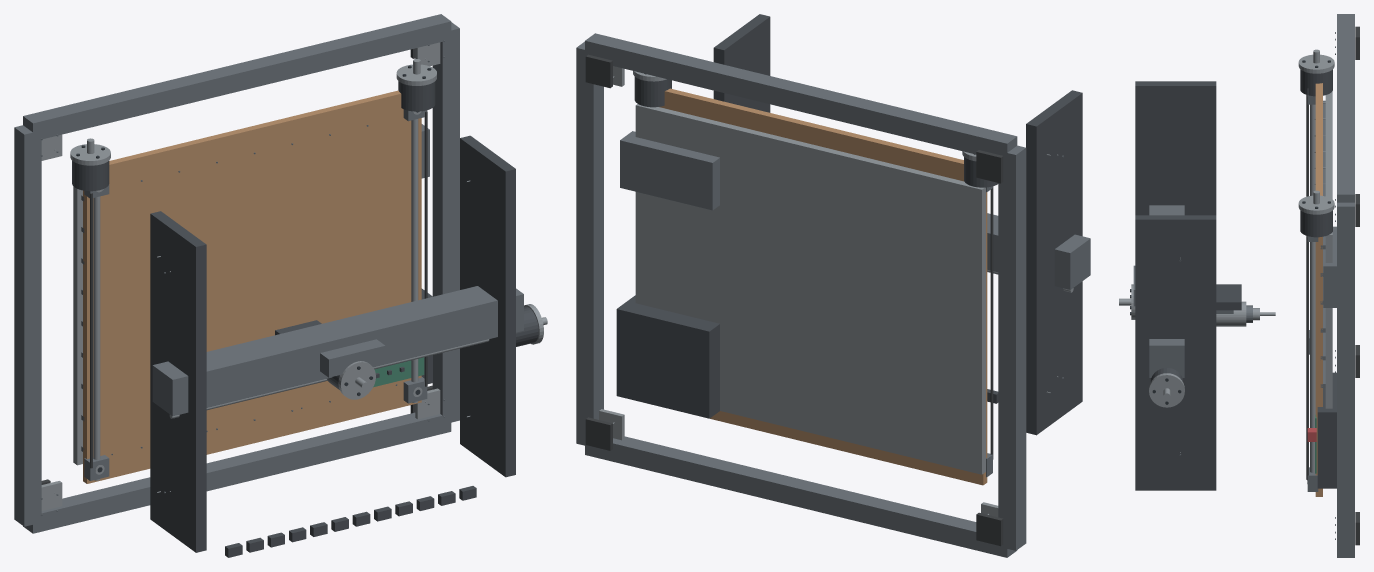
Rendered from cnc-4040.glb.
3 views of the same model, side by side, from view 1: azimuth 30°, elevation 25°; view 2: azimuth 150°, elevation 25°; view 3: azimuth 270°, elevation 25° (orthographic). The views are drawn at different scales.
Visible parts, largest first — view 1: 0282_MDF_worktop, 0165_X_axis_gantry_extrusion, 0151_Gantry_side_plate, 0158_Gantry_side_plate, 0005_Base_longitudinal_T-slot_extrusion, 0009_Base_cross_T-slot_extrusion, 0001_Base_longitudinal_T-slot_extrusion, 0013_Base_cross_T-slot_extrusion, 0073_Bed_support_plate, 0137_Y_linear_guide_rail, 0144_Y_linear_guide_rail, 0172_X_carriage_plate (+9 smaller); view 2: 0073_Bed_support_plate, 0151_Gantry_side_plate, 0005_Base_longitudinal_T-slot_extrusion, 0009_Base_cross_T-slot_extrusion, 0001_Base_longitudinal_T-slot_extrusion, 0230_Controller_enclosure, 0282_MDF_worktop, 0013_Base_cross_T-slot_extrusion, 0247_Power_supply_enclosure, 0158_Gantry_side_plate, 0165_X_axis_gantry_extrusion, 0216_Y_timing_belt (+5 smaller); view 3: 0158_Gantry_side_plate, 0151_Gantry_side_plate, 0013_Base_cross_T-slot_extrusion, 0005_Base_longitudinal_T-slot_extrusion, 0282_MDF_worktop, 0073_Bed_support_plate, 0230_Controller_enclosure, 0165_X_axis_gantry_extrusion, 0144_Y_linear_guide_rail, 0189_X_stepper_motor_front_flange, 0247_Power_supply_enclosure, 0202_Y_stepper_motor_motor_body (+8 smaller).
Part boxes in pixels (x1,y1,x2,y2): 0282_MDF_worktop: (83, 90, 421, 483); 0165_X_axis_gantry_extrusion: (152, 286, 523, 416); 0151_Gantry_side_plate: (150, 211, 206, 552); 0158_Gantry_side_plate: (460, 135, 515, 477); 0005_Base_longitudinal_T-slot_extrusion: (23, 14, 451, 141); 0009_Base_cross_T-slot_extrusion: (14, 125, 41, 526); 0001_Base_longitudinal_T-slot_extrusion: (23, 412, 451, 533); 0013_Base_cross_T-slot_extrusion: (432, 22, 459, 422); 0073_Bed_support_plate: (73, 186, 82, 465); 0137_Y_linear_guide_rail: (93, 196, 100, 480); 0144_Y_linear_guide_rail: (411, 119, 418, 403); 0172_X_carriage_plate: (320, 339, 385, 377); 0073_Bed_support_plate: (635, 104, 985, 474); 0151_Gantry_side_plate: (1026, 90, 1082, 435); 0005_Base_longitudinal_T-slot_extrusion: (585, 33, 1017, 161); 0009_Base_cross_T-slot_extrusion: (998, 145, 1026, 550); 0001_Base_longitudinal_T-slot_extrusion: (585, 436, 1017, 557); 0230_Controller_enclosure: (616, 295, 719, 418); 0282_MDF_worktop: (659, 88, 987, 485); 0013_Base_cross_T-slot_extrusion: (576, 41, 603, 447); 0247_Power_supply_enclosure: (620, 131, 719, 210); 0158_Gantry_side_plate: (713, 14, 770, 112); 0165_X_axis_gantry_extrusion: (987, 213, 1090, 289); 0216_Y_timing_belt: (990, 186, 993, 459); 0158_Gantry_side_plate: (1135, 215, 1216, 490); 0151_Gantry_side_plate: (1135, 81, 1216, 215); 0013_Base_cross_T-slot_extrusion: (1337, 202, 1354, 553); 0005_Base_longitudinal_T-slot_extrusion: (1337, 14, 1354, 202); 0282_MDF_worktop: (1315, 83, 1322, 496); 0073_Bed_support_plate: (1325, 91, 1332, 408); 0230_Controller_enclosure: (1317, 372, 1336, 488); 0165_X_axis_gantry_extrusion: (1149, 205, 1184, 377); 0144_Y_linear_guide_rail: (1310, 242, 1315, 472); 0189_X_stepper_motor_front_flange: (1149, 373, 1184, 407); 0247_Power_supply_enclosure: (1323, 226, 1336, 307); 0202_Y_stepper_motor_motor_body: (1300, 210, 1332, 237).
Size of the model in its own units: 500 by 450 by 270.
